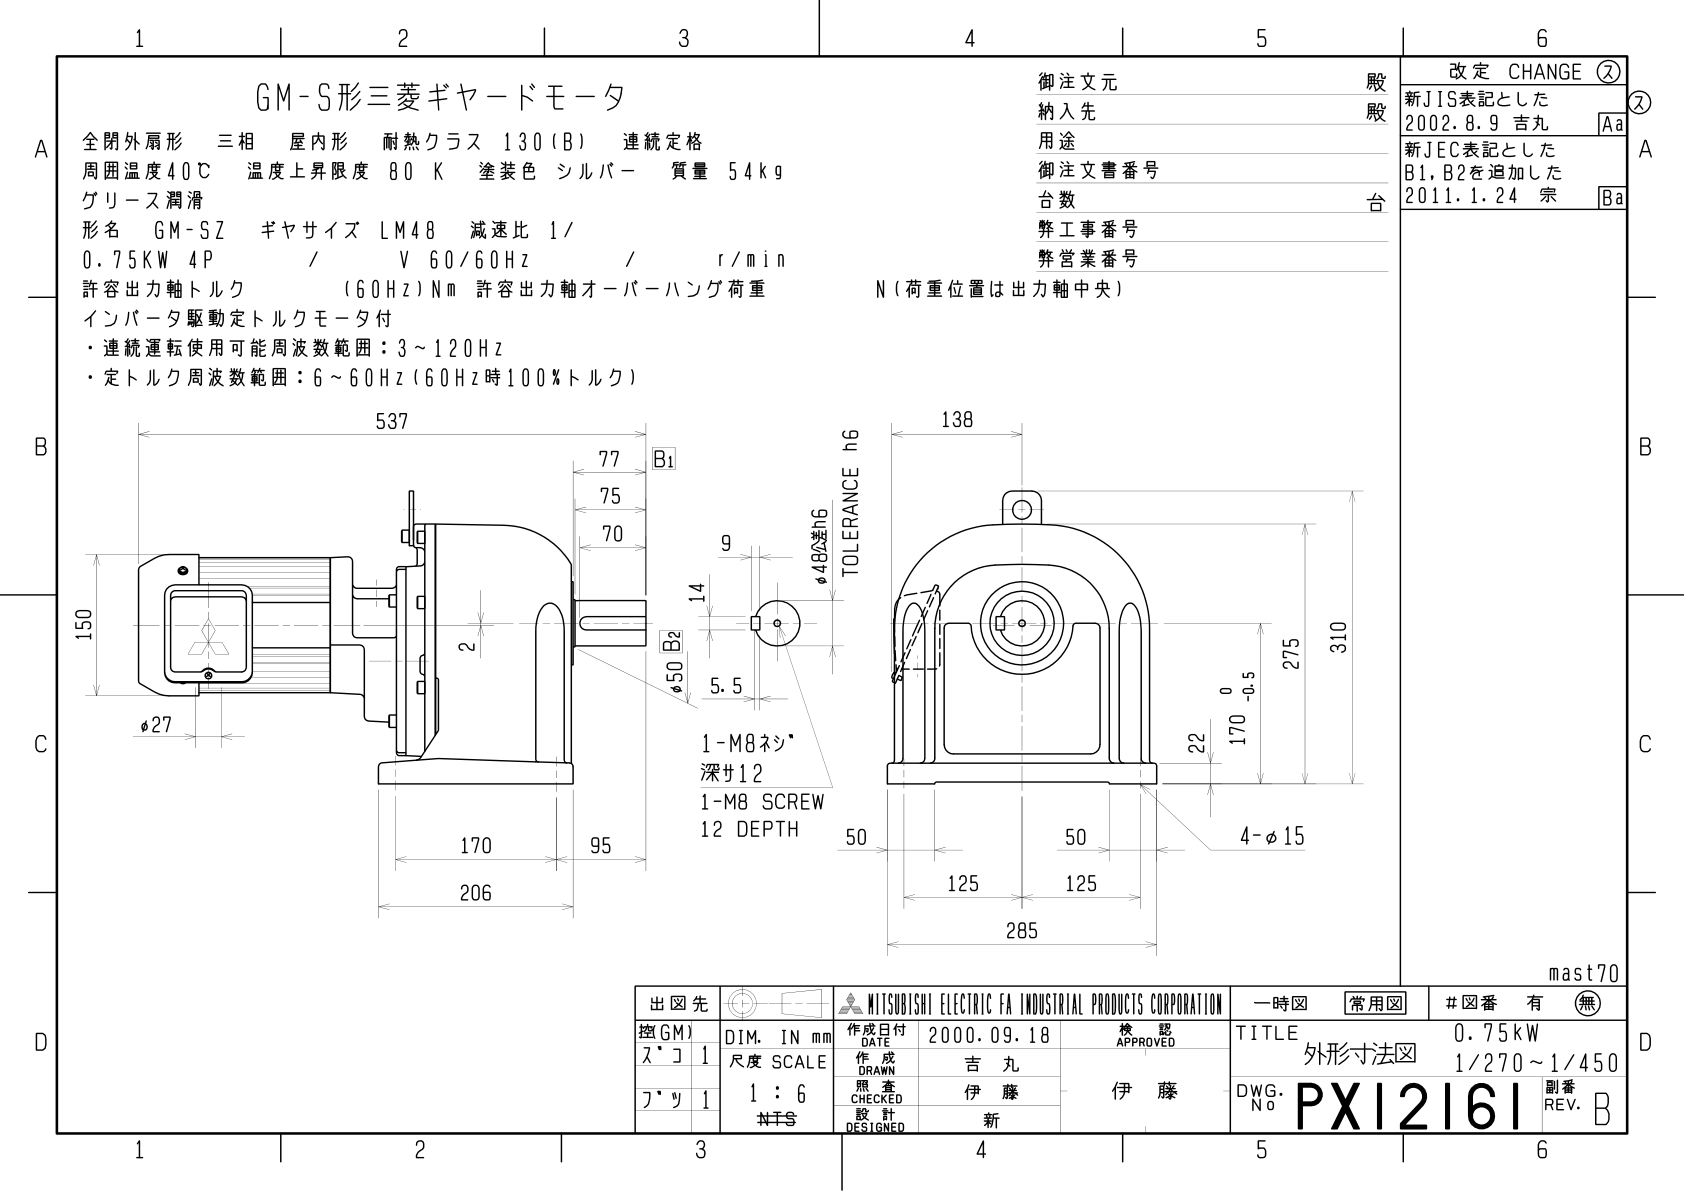GM_S_インバタ屋外＿三相_脚: (64, 392, 1385, 965)
